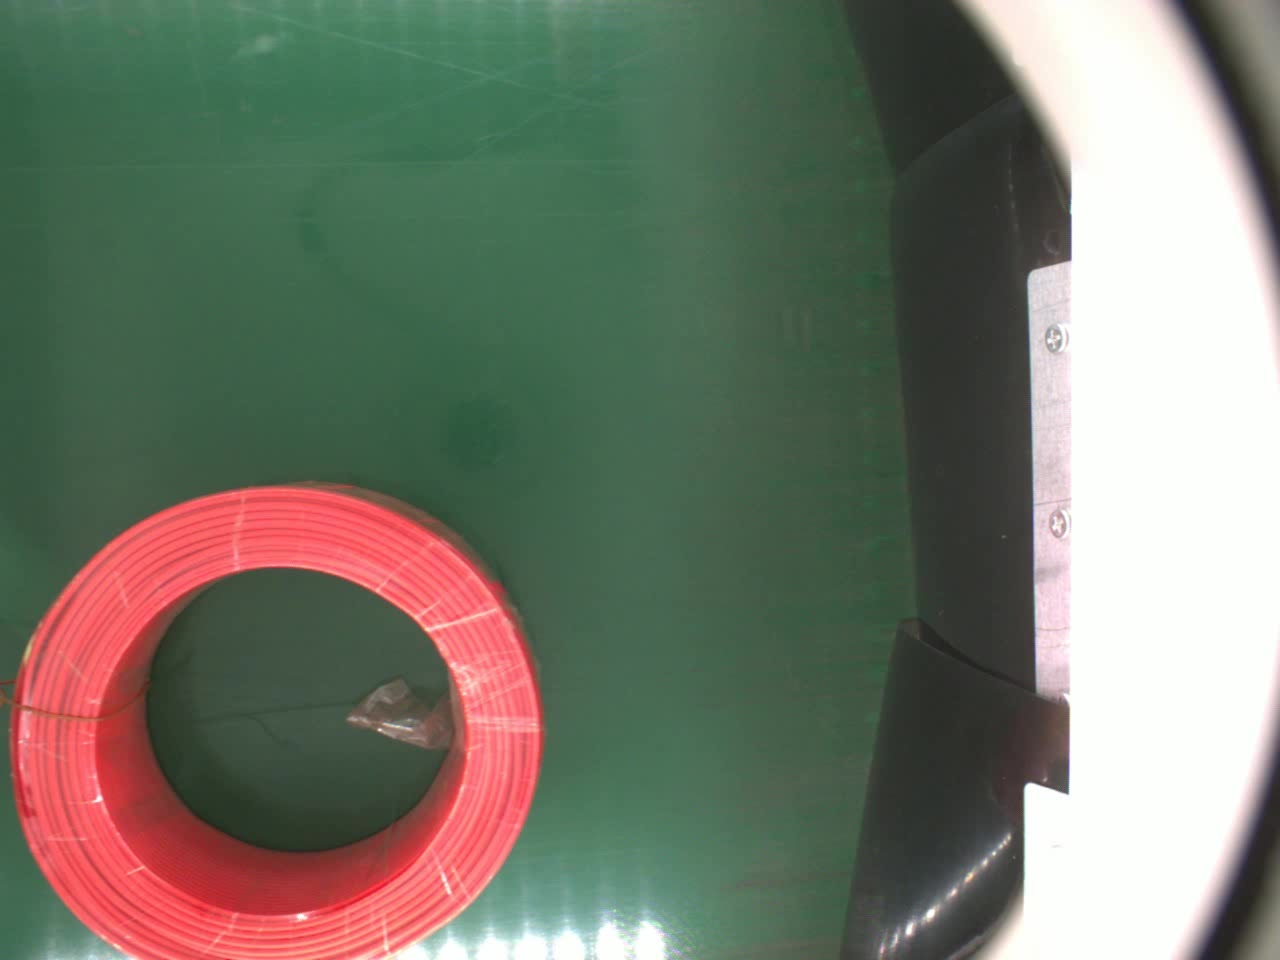red: (8, 475, 548, 960)
